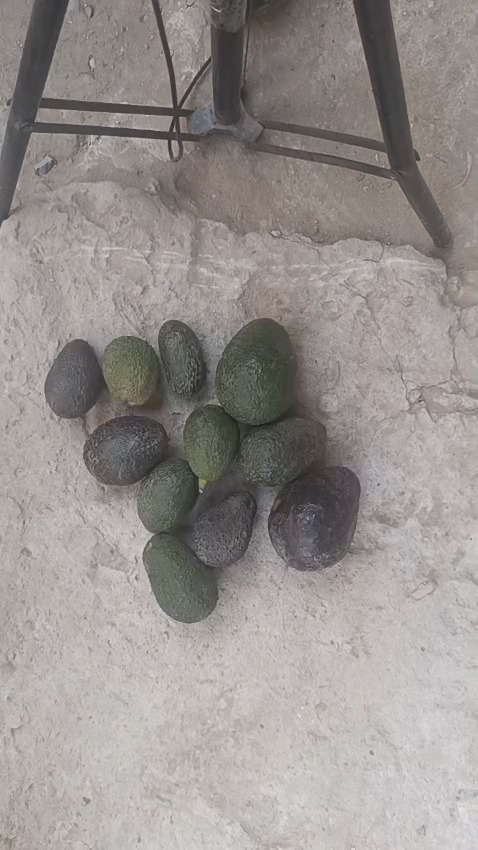Primera: (216, 320, 298, 427)
Segunda: (269, 468, 361, 571), (143, 535, 217, 624), (237, 420, 327, 493), (83, 417, 167, 487), (182, 407, 241, 491), (45, 339, 104, 418), (138, 460, 199, 536), (102, 336, 162, 409)
Tercera: (190, 491, 257, 568), (159, 322, 209, 407)
